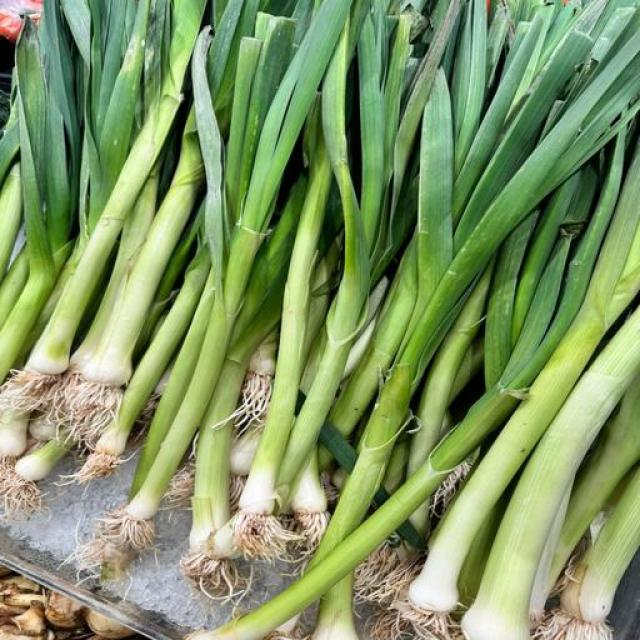organic: (0, 0, 640, 640), (0, 0, 42, 41)
